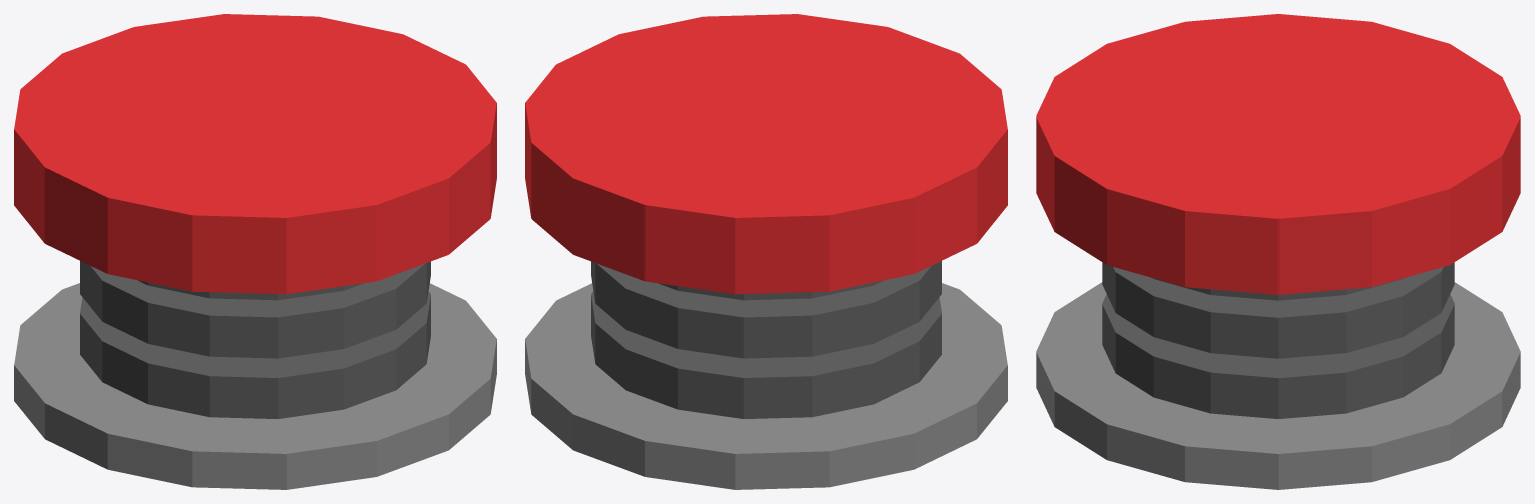
Rendered from JumpPad.fbx.
3 views of the same model, side by side, from view 1: azimuth 30°, elevation 25°; view 2: azimuth 150°, elevation 25°; view 3: azimuth 270°, elevation 25° (orthographic).
Visible parts, largest first — view 1: 立方体.013; view 2: 立方体.013; view 3: 立方体.013.
Boxes of the visible parts, x1,y1,x2,y2 form: 立方体.013: [14, 14, 496, 489]; 立方体.013: [525, 14, 1007, 489]; 立方体.013: [1036, 14, 1520, 489].
Size of the model in its own units: 2.25 by 1.39 by 2.25.
